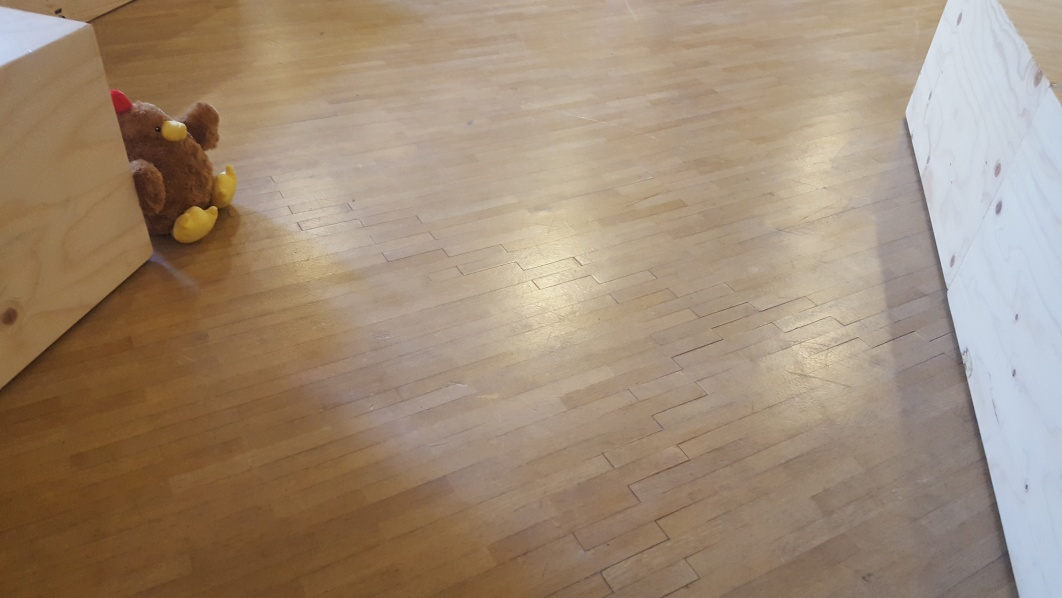chicken: (110, 86, 238, 244)
